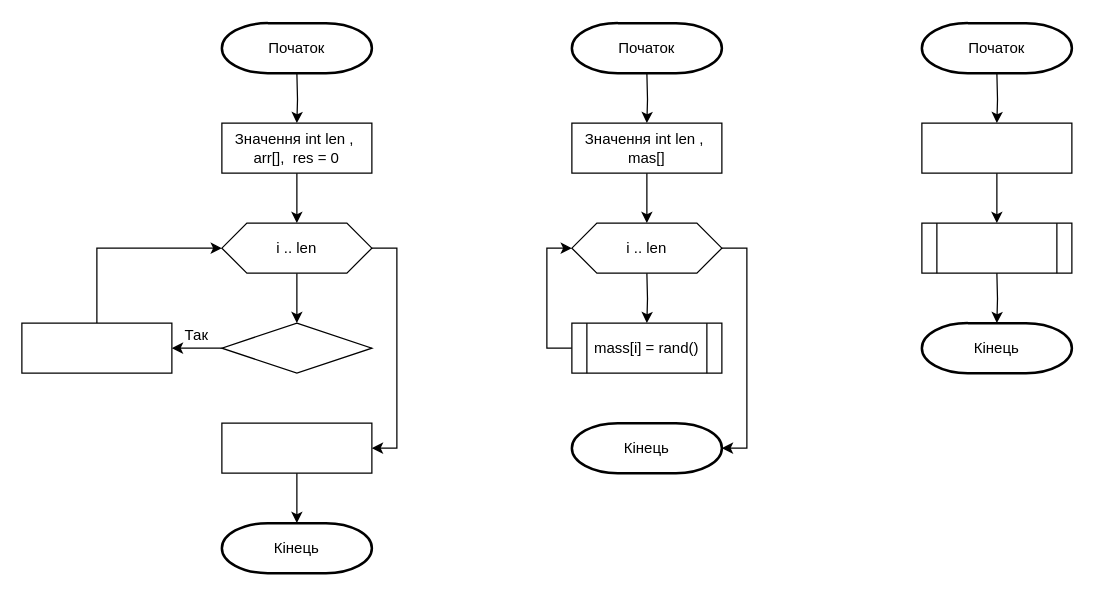
Some shapes in this 1095 by 595 pixel diagram are drawn without their labels. Here are the shapes that lost their labels. From the top down, the centre of each, then its label:
At pixel 996 147: "Значення int lenght , massiv[length], RESULT".
At pixel 996 247: "RESULT = func(lenght,massiv)".
At pixel 96 347: "res ++".
At pixel 296 347: "arr[i] < arr[i+1]".
At pixel 296 447: "return res".
